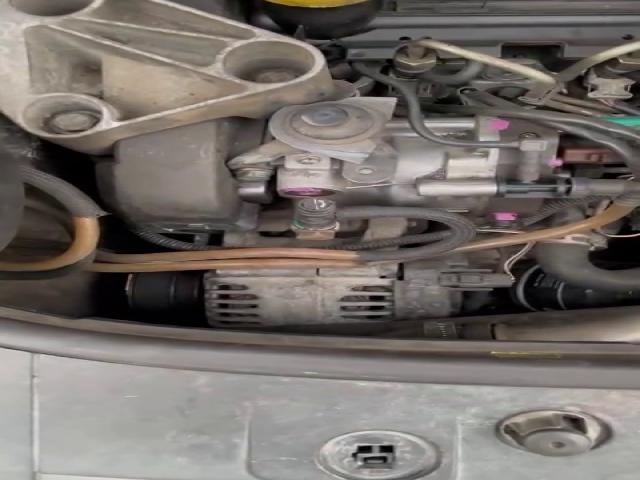alternator: (205, 250, 518, 328)
high_pressure_pump: (271, 112, 573, 230)
